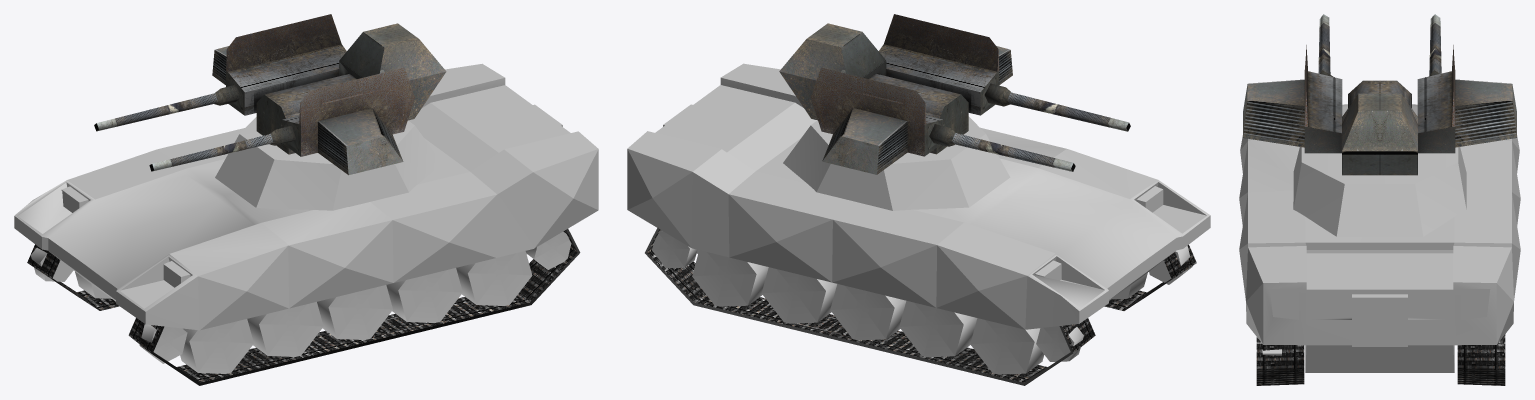
File: Tank1_lod2.FBX
The picture shows the model from 3 angles, left to right: view 1: azimuth 30°, elevation 25°; view 2: azimuth 150°, elevation 25°; view 3: azimuth 270°, elevation 25°; orthographic projection.
Visible parts, largest first — view 1: tank11, tank1_gun02, Object34, wheel171, wheel169, wheel172, wheel170, wheel160, wheel159, wheel153, wheel151; view 2: tank11, tank1_gun02, Object34, wheel167, wheel157, wheel166, wheel165, wheel168, wheel151, wheel158, wheel159; view 3: tank11, tank1_gun02, Object34.
Part boxes in pixels (x1=…): tank11: x1=14, y1=63, x2=598, y2=330; tank1_gun02: x1=94, y1=14, x2=446, y2=175; Object34: x1=27, y1=229, x2=580, y2=385; wheel171: x1=386, y1=268, x2=462, y2=322; wheel169: x1=247, y1=302, x2=323, y2=356; wheel172: x1=456, y1=251, x2=532, y2=305; wheel170: x1=317, y1=285, x2=392, y2=339; wheel160: x1=180, y1=319, x2=253, y2=373; wheel159: x1=139, y1=324, x2=187, y2=363; wheel153: x1=525, y1=231, x2=571, y2=269; wheel151: x1=30, y1=248, x2=73, y2=281; tank11: x1=627, y1=63, x2=1210, y2=329; tank1_gun02: x1=779, y1=14, x2=1130, y2=174; Object34: x1=645, y1=227, x2=1196, y2=385; wheel167: x1=899, y1=300, x2=977, y2=357; wheel157: x1=692, y1=250, x2=768, y2=306; wheel166: x1=830, y1=284, x2=906, y2=340; wheel165: x1=761, y1=267, x2=836, y2=323; wheel168: x1=970, y1=318, x2=1044, y2=374; wheel151: x1=1036, y1=326, x2=1083, y2=361; wheel158: x1=652, y1=230, x2=697, y2=268; wheel159: x1=1149, y1=246, x2=1192, y2=284; tank11: x1=1239, y1=104, x2=1520, y2=372; tank1_gun02: x1=1243, y1=14, x2=1516, y2=175; Object34: x1=1256, y1=333, x2=1505, y2=385.
Size of the model in its own units: 7.05 by 3.51 by 3.65.
